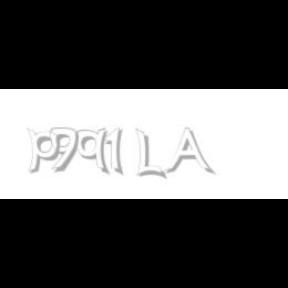1: (102, 128, 124, 176)
9: (50, 128, 78, 172)
A: (164, 128, 212, 176)
L: (136, 128, 164, 180)
p: (26, 128, 64, 174)
q: (75, 128, 111, 176)
